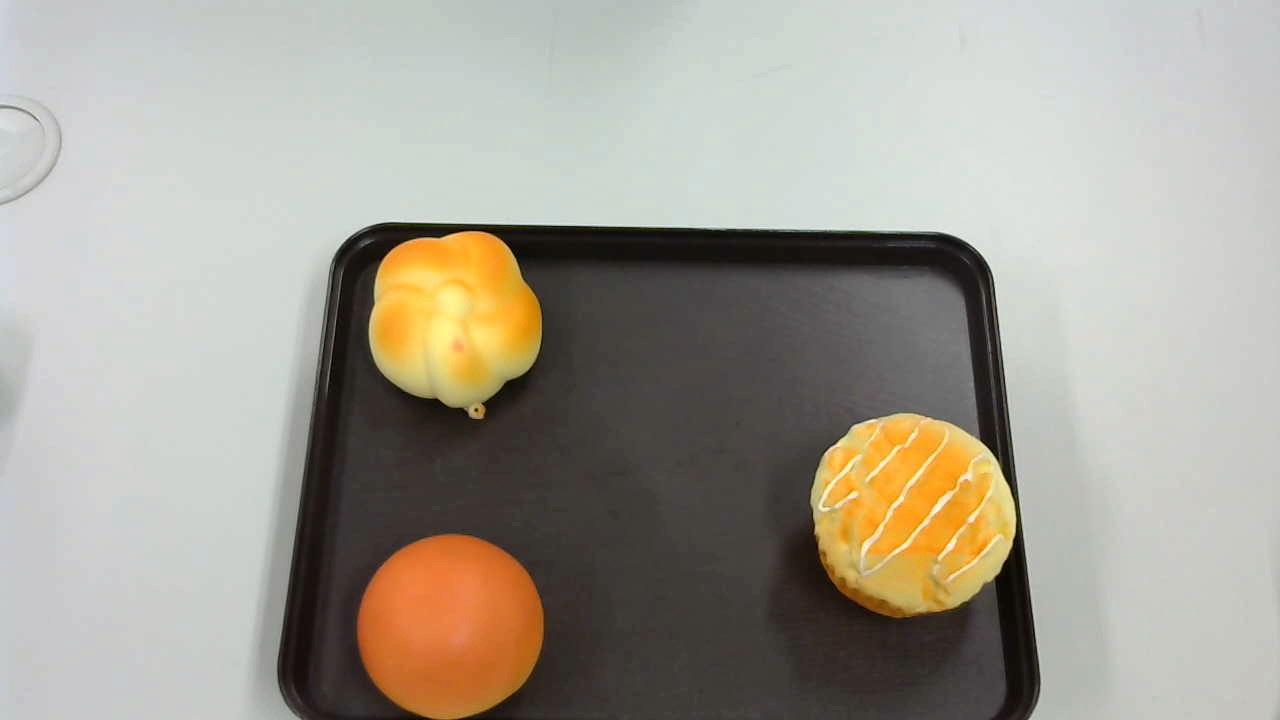bun: (357, 534, 545, 720)
cupcake: (811, 412, 1017, 619)
twist bread: (370, 231, 542, 419)
